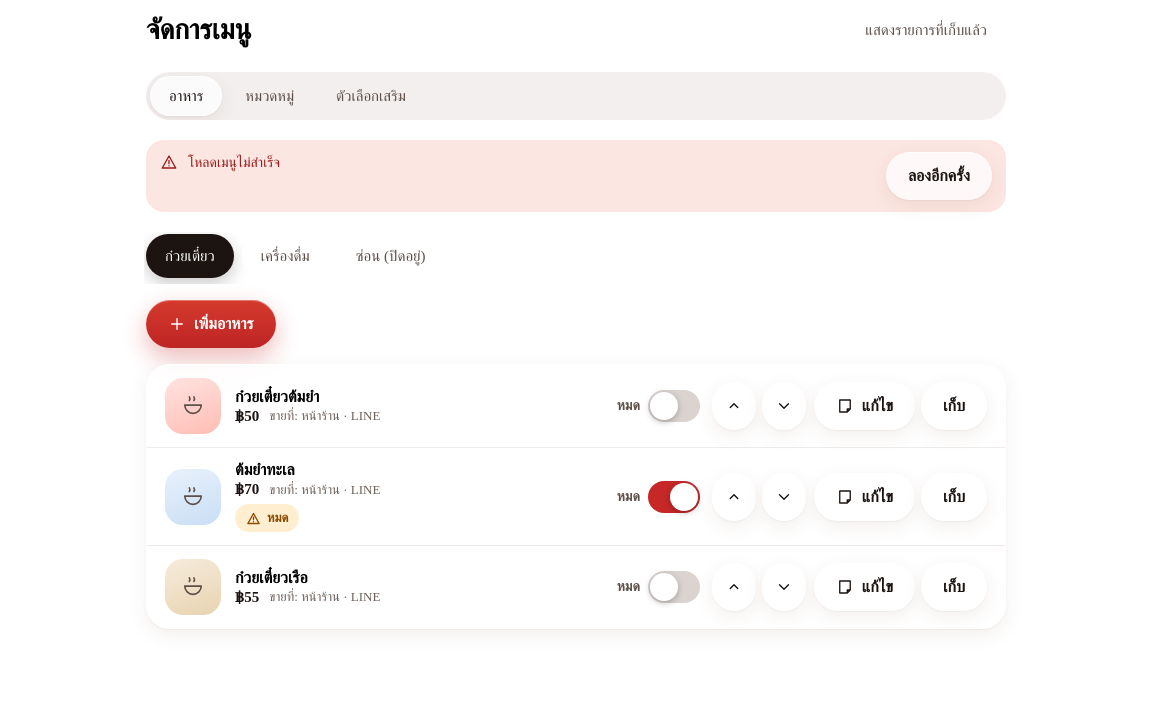
Test case: the lists › a failed first load says so and offers a retry
This screenshot has width=1152, height=720.
Check: the text "โหลดเมนูไม่สำเร็จ" is shown, box [188,155,280,170]
What coordinates should you click on to do the following:
click the button "ลองอีกครั้ง"
I would click on:
 (939, 176)
Its box is [886,152,992,200].
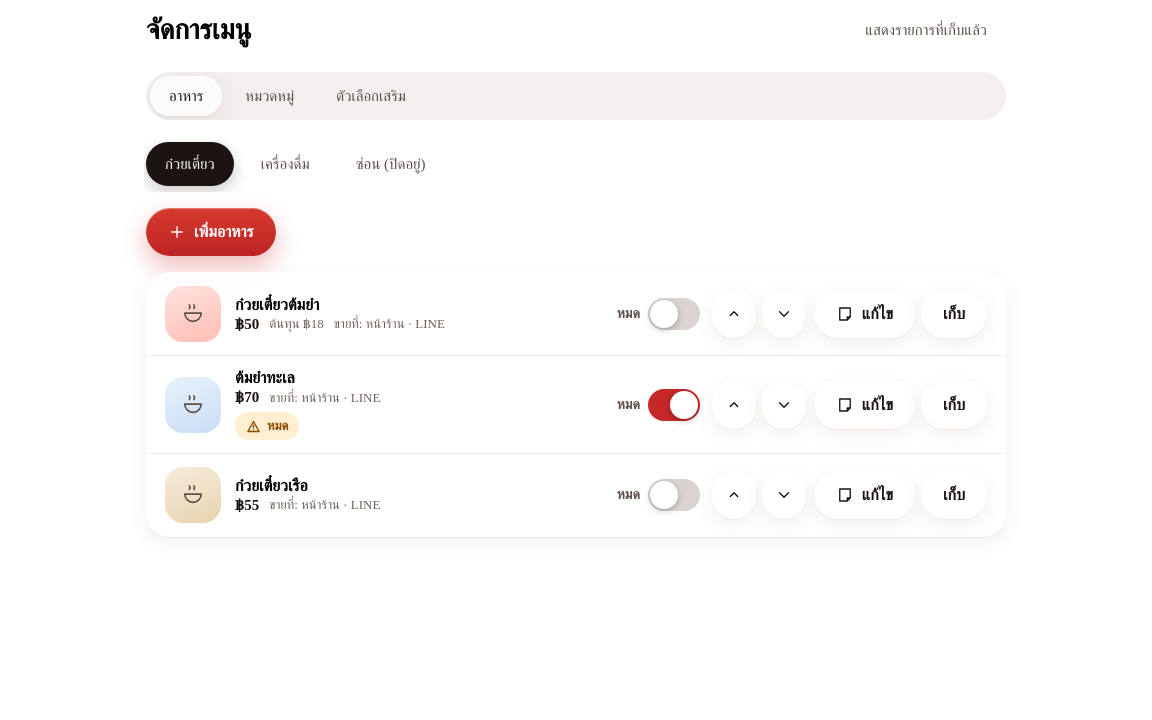
Check: the text "โหลดเมนูไม่สำเร็จ" is gone
